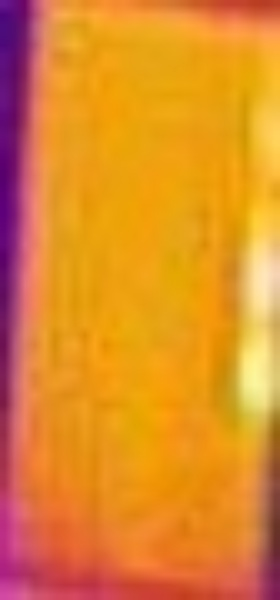Diode: (231, 173, 280, 440)
